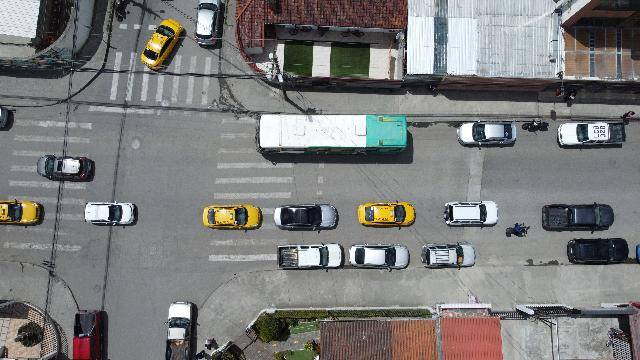Vehiculo: (140, 18, 183, 70), (541, 202, 615, 231), (72, 310, 108, 360), (278, 243, 344, 269), (274, 204, 338, 230), (557, 122, 625, 146), (567, 238, 629, 264), (348, 244, 409, 270), (203, 204, 263, 230), (444, 200, 498, 228), (358, 201, 416, 227), (421, 243, 475, 270), (36, 155, 92, 181), (458, 122, 516, 146), (194, 0, 222, 46), (84, 202, 136, 226), (0, 200, 40, 224)
